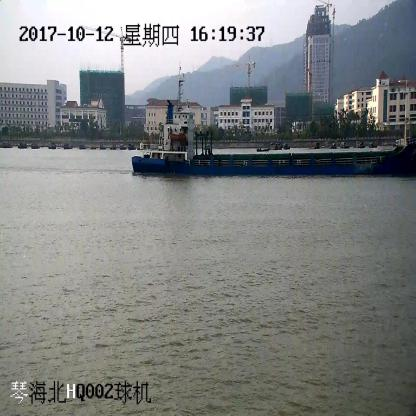Bulk Carrier: (131, 69, 416, 180)
